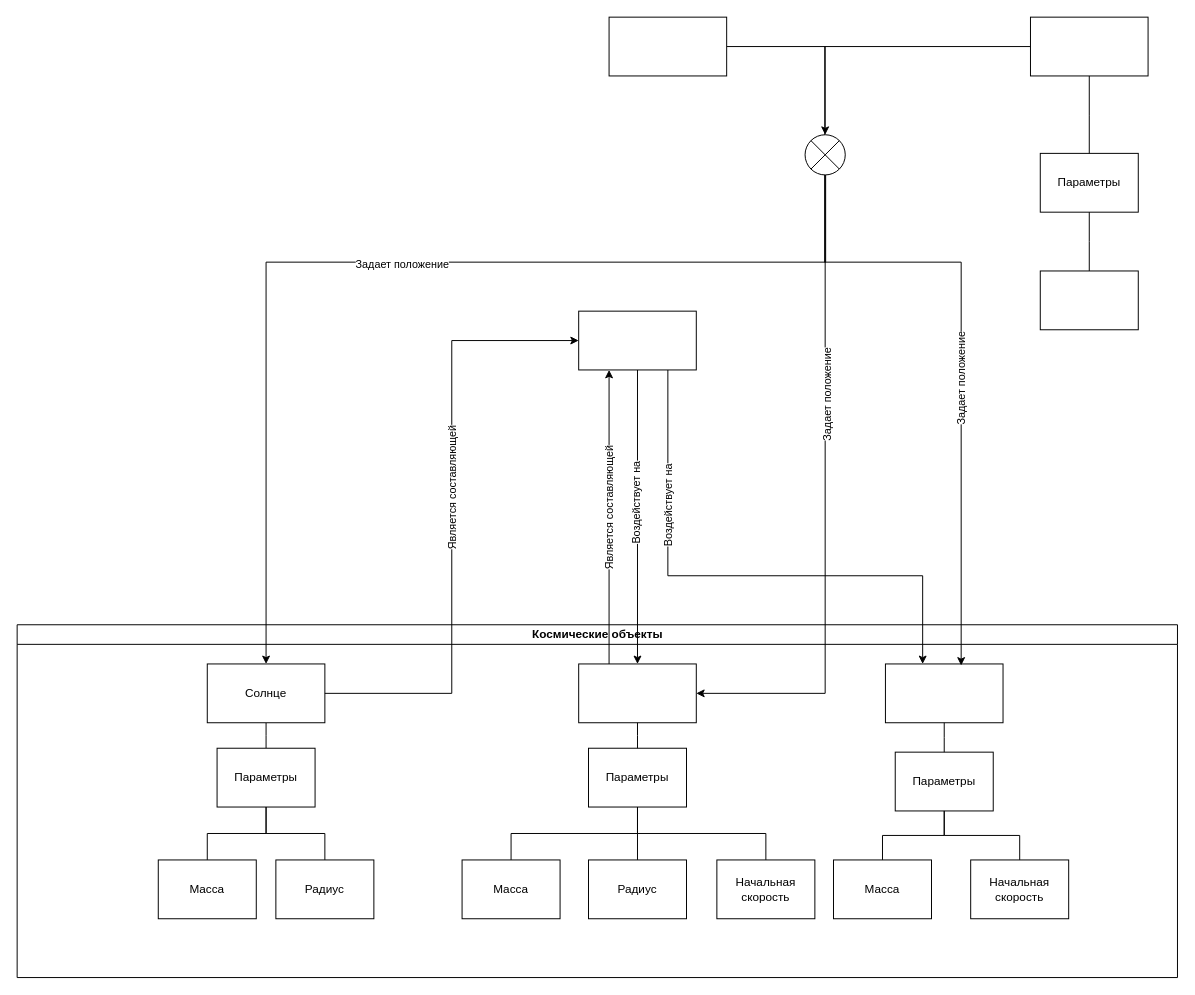
Image size: 1195x995. Some labels were removed from this diagram. The centre of each missing label's shape, as x and y in pixels:
Время (main): (667,46)
Гравитационное поле: (637,340)
Координатная сетка: (1088,46)
Наблюдаемый объект (астероид): (943,693)
Планета: (637,693)
Размер: (1088,300)
